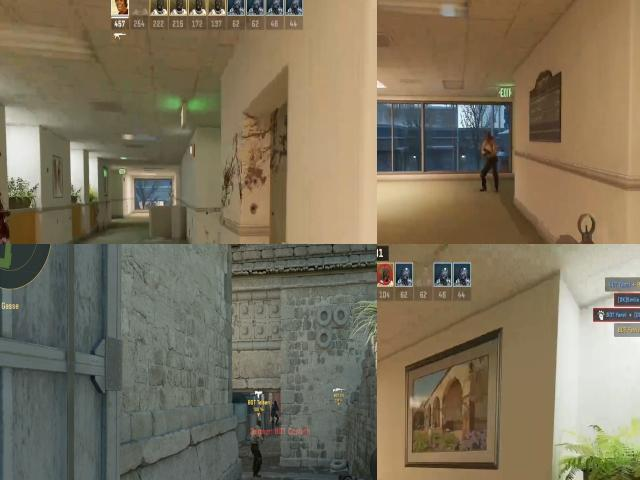CT: (269, 400, 280, 426)
CT-Head: (272, 400, 278, 407)
T: (247, 421, 266, 480), (481, 132, 497, 172)
T-Head: (484, 129, 494, 143), (254, 419, 262, 431)
